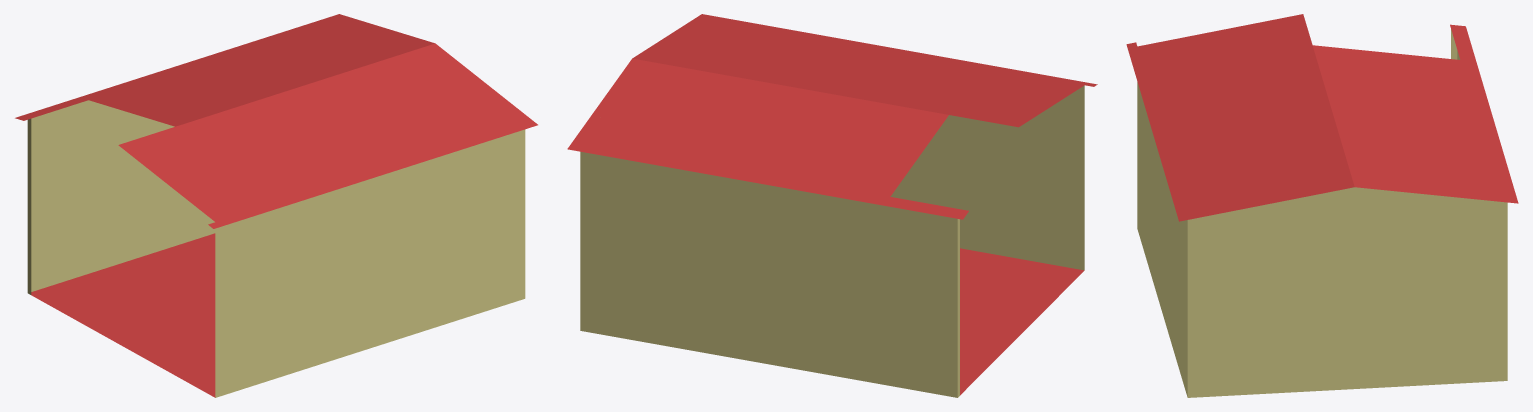
The picture shows the model from 3 angles, left to right: view 1: azimuth 30°, elevation 25°; view 2: azimuth 150°, elevation 25°; view 3: azimuth 270°, elevation 25°; orthographic projection. The views are drawn at different scales.
Bounding box in the file's own units: 11.69 × 9.92 × 5.75.
